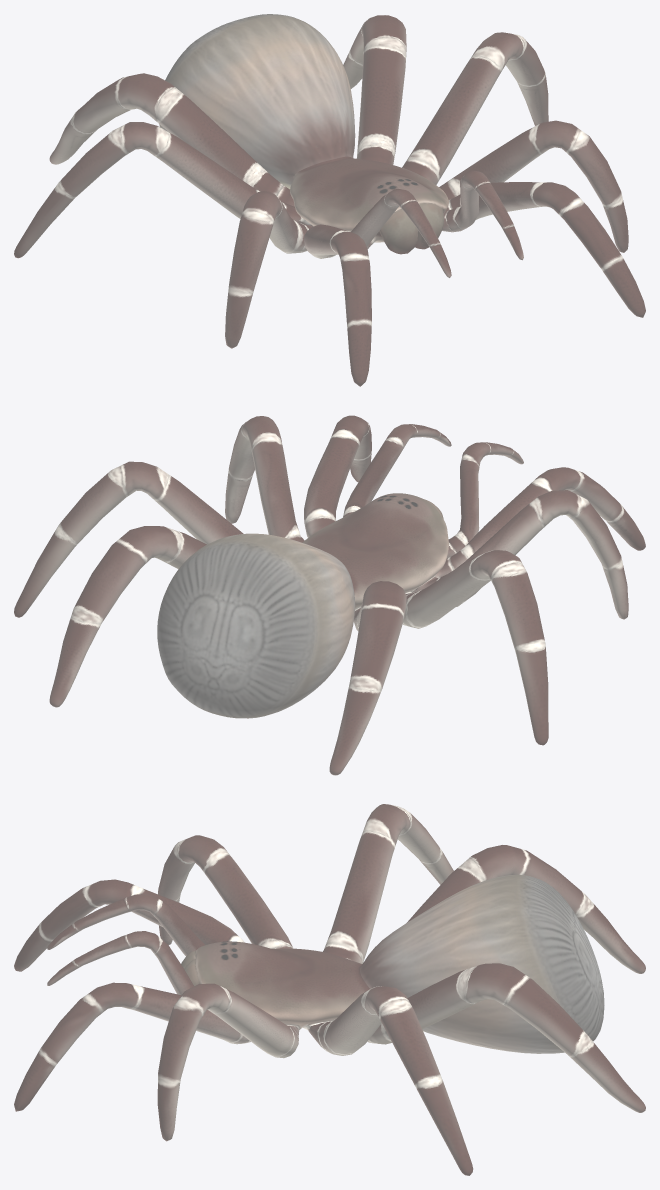
3 renders of one model, top to bottom at view 1: azimuth 30°, elevation 25°; view 2: azimuth 150°, elevation 25°; view 3: azimuth 270°, elevation 25°, orthographic. The views are drawn at different scales.
Visible parts, largest first — view 1: Spider; view 2: Spider; view 3: Spider.
Boxes of the visible parts, bbox=[...] form: Spider: bbox=[14, 14, 645, 386]; Spider: bbox=[14, 415, 645, 775]; Spider: bbox=[14, 804, 645, 1175].
Size of the model in its own units: 1.53 by 0.4296 by 1.54.
Materials: 1 (1 with a texture image).
